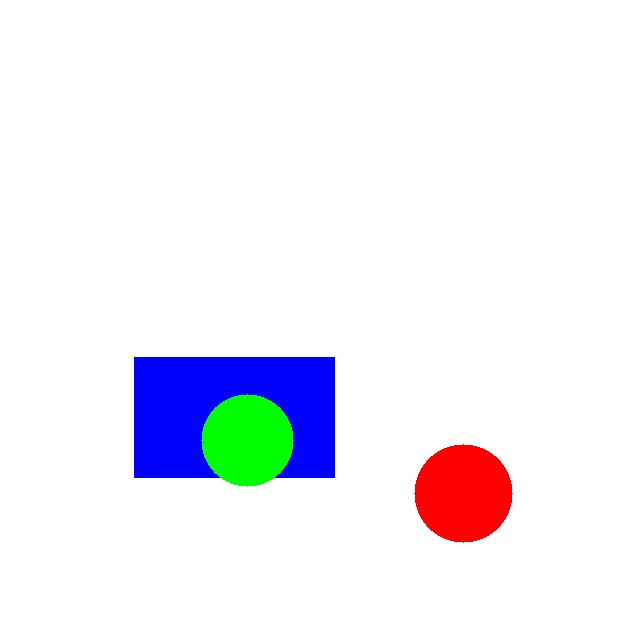cartao: (134, 357, 334, 477)
rosca_externa: (201, 394, 293, 486)
rosca_interna: (414, 444, 512, 542)
